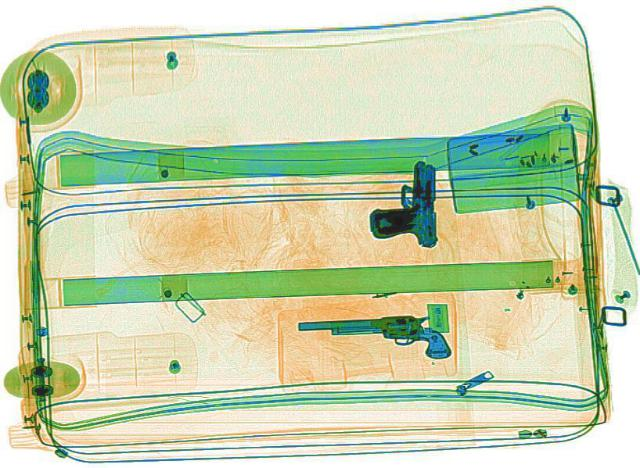Gun: (294, 310, 452, 365), (365, 159, 439, 247)
